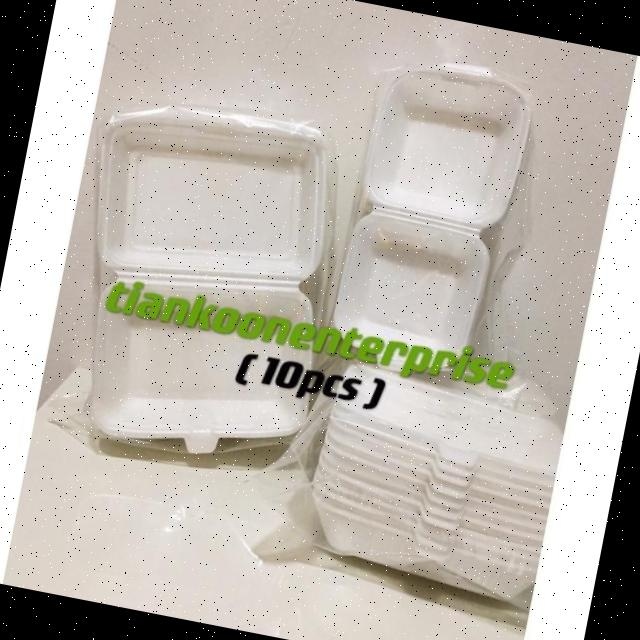styrofoam: (43, 82, 364, 476), (293, 333, 573, 610)
